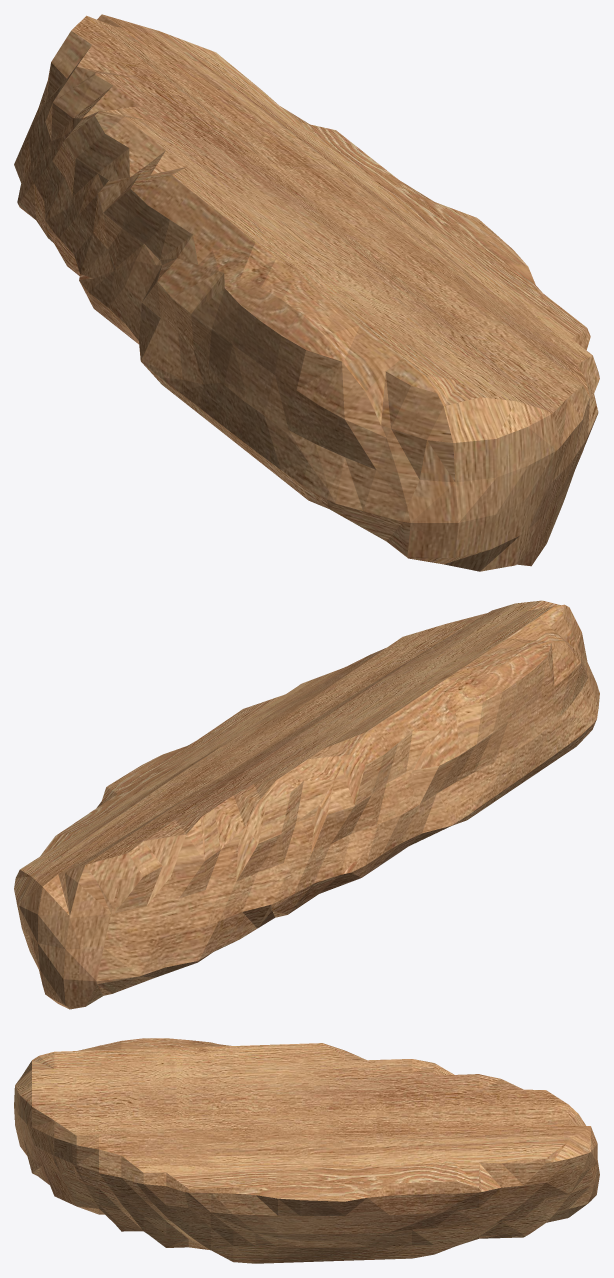
File: 24275_img-3d-cad.glb
3 renders of one model, top to bottom at view 1: azimuth 30°, elevation 25°; view 2: azimuth 150°, elevation 25°; view 3: azimuth 270°, elevation 25°, orthographic. The views are drawn at different scales.
Parts seen in each view (by area): view 1: ParentEmpty; view 2: ParentEmpty; view 3: ParentEmpty.
Boxes of the visible parts, left/top/right/bottom form: ParentEmpty: left=14, top=14, right=599, bottom=571; ParentEmpty: left=14, top=600, right=599, bottom=1009; ParentEmpty: left=14, top=1038, right=599, bottom=1263.
Bounding box in the file's own units: 0.4267 × 0.2911 × 1.
Materials: 1 (1 with a texture image).
